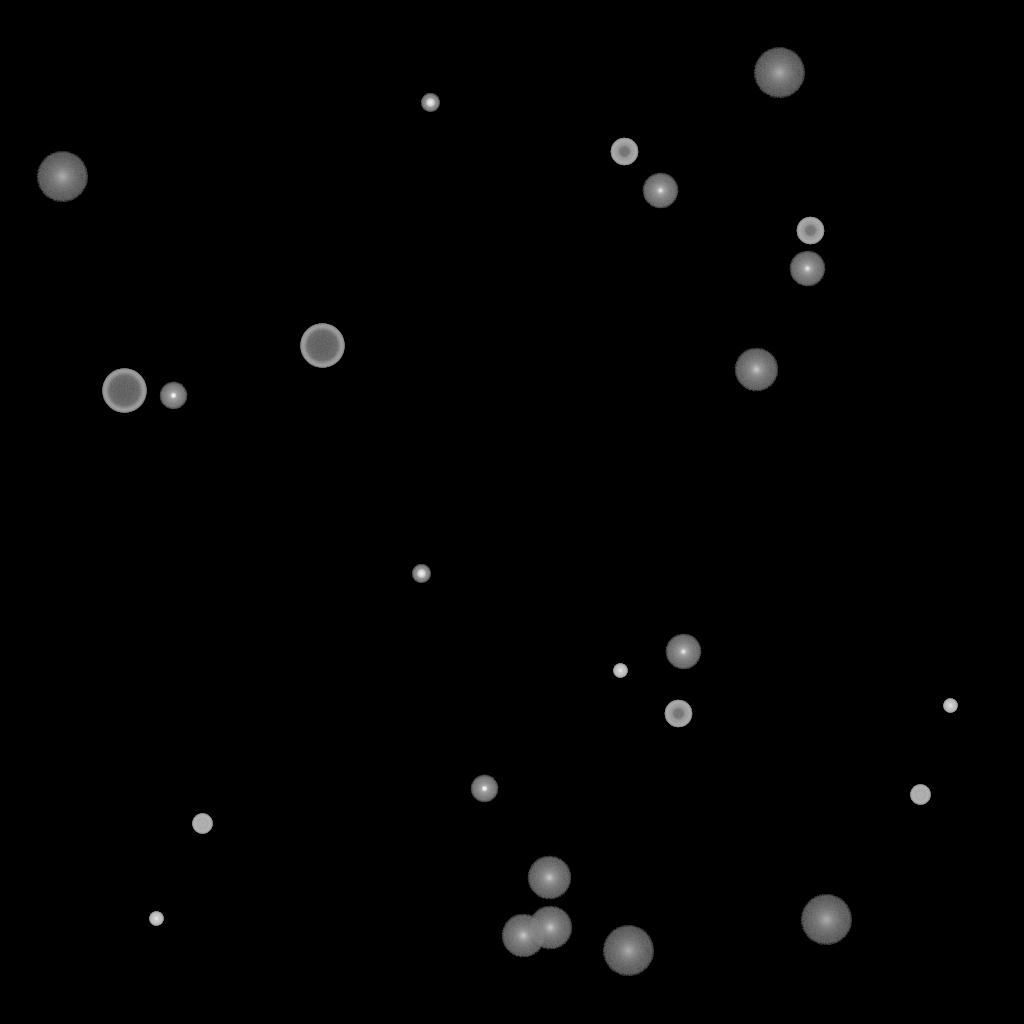depth:-10: (470, 775, 498, 803), (159, 382, 187, 410)
depth:-20: (421, 94, 439, 112), (412, 565, 430, 583)
depth:-30: (149, 912, 163, 926), (613, 664, 627, 678), (943, 699, 957, 713)
depth:-40: (192, 814, 212, 834), (910, 785, 930, 805)
depth:-50: (610, 138, 638, 166), (796, 217, 824, 245), (664, 700, 692, 728)
depth:-70: (102, 369, 146, 413), (300, 324, 344, 368)
depth:0: (665, 634, 701, 670), (642, 173, 678, 209), (789, 251, 825, 287)
depth:10: (527, 856, 571, 900), (501, 914, 545, 958), (528, 906, 572, 950), (734, 348, 778, 392)
depth:20: (602, 926, 654, 976), (36, 152, 88, 202), (800, 895, 852, 945), (753, 48, 805, 98)
